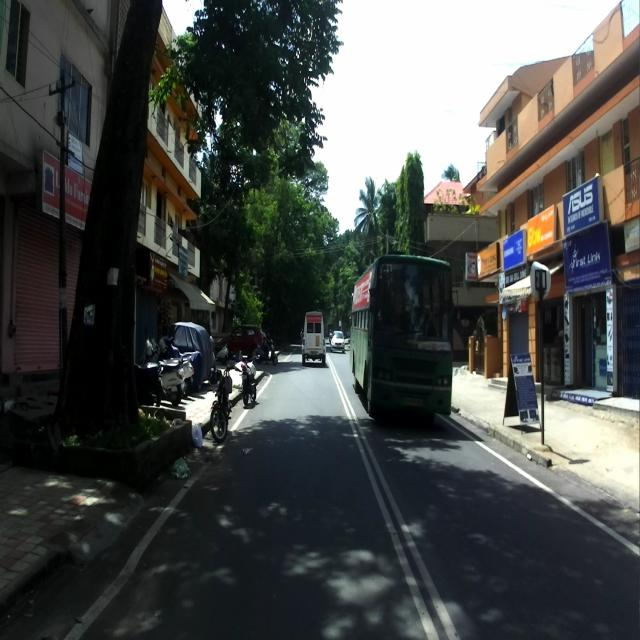bus: (350, 253, 454, 428)
mini-bus: (302, 311, 326, 367)
motorcycle_bajaj: (209, 361, 234, 442)
